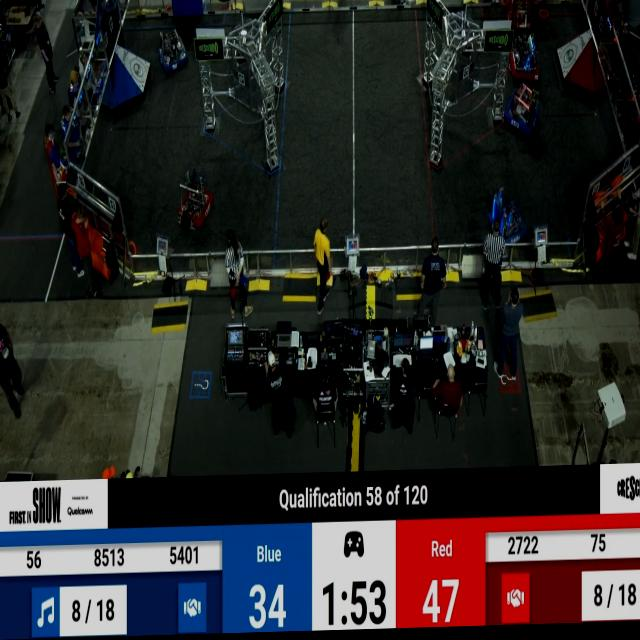Robot: (502, 81, 542, 146), (179, 167, 216, 234), (487, 189, 526, 252), (507, 31, 538, 85), (160, 27, 190, 78), (506, 0, 534, 39)
